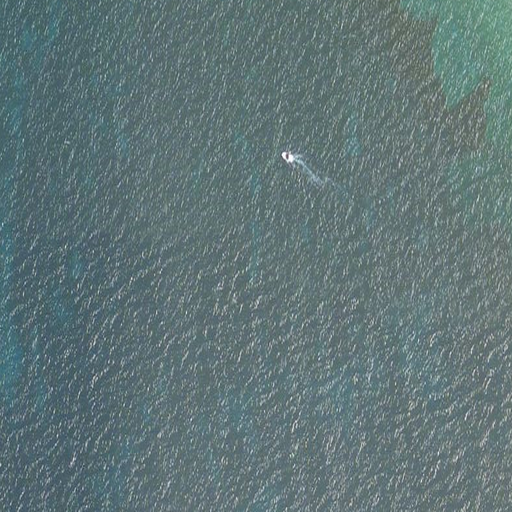ship: (280, 149, 299, 166)
